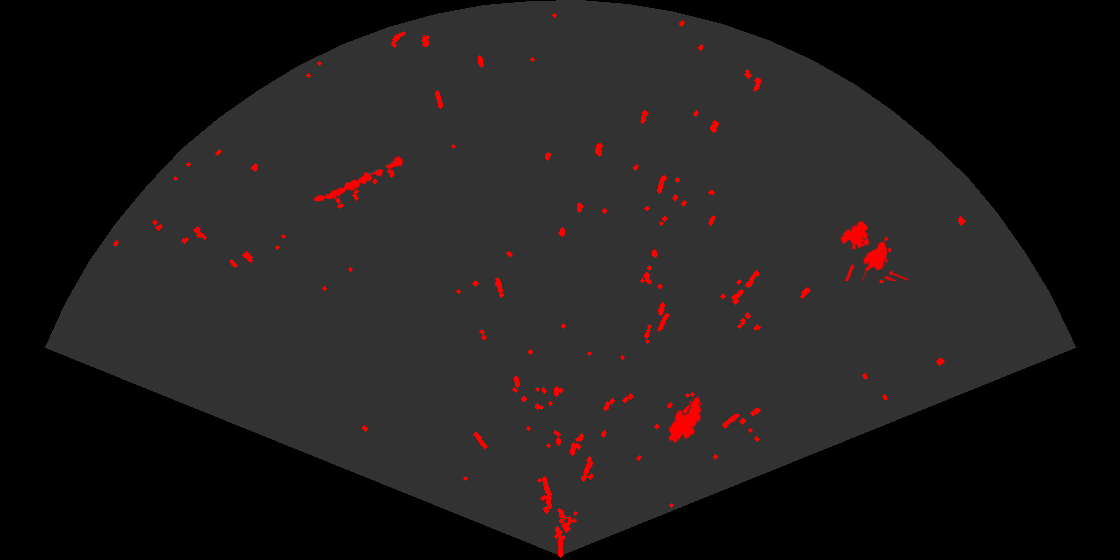AUV: (667, 395, 703, 445)
cage: (838, 219, 908, 281)
chain: (312, 154, 405, 203)
